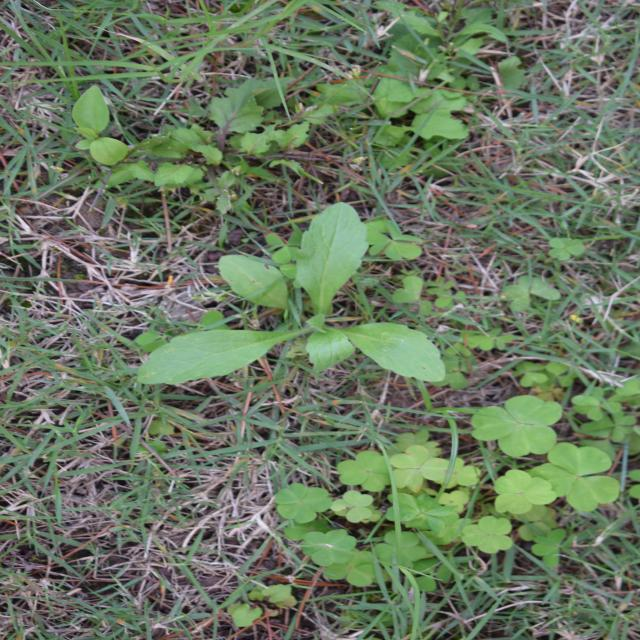horseweed: (220, 194, 390, 487)
